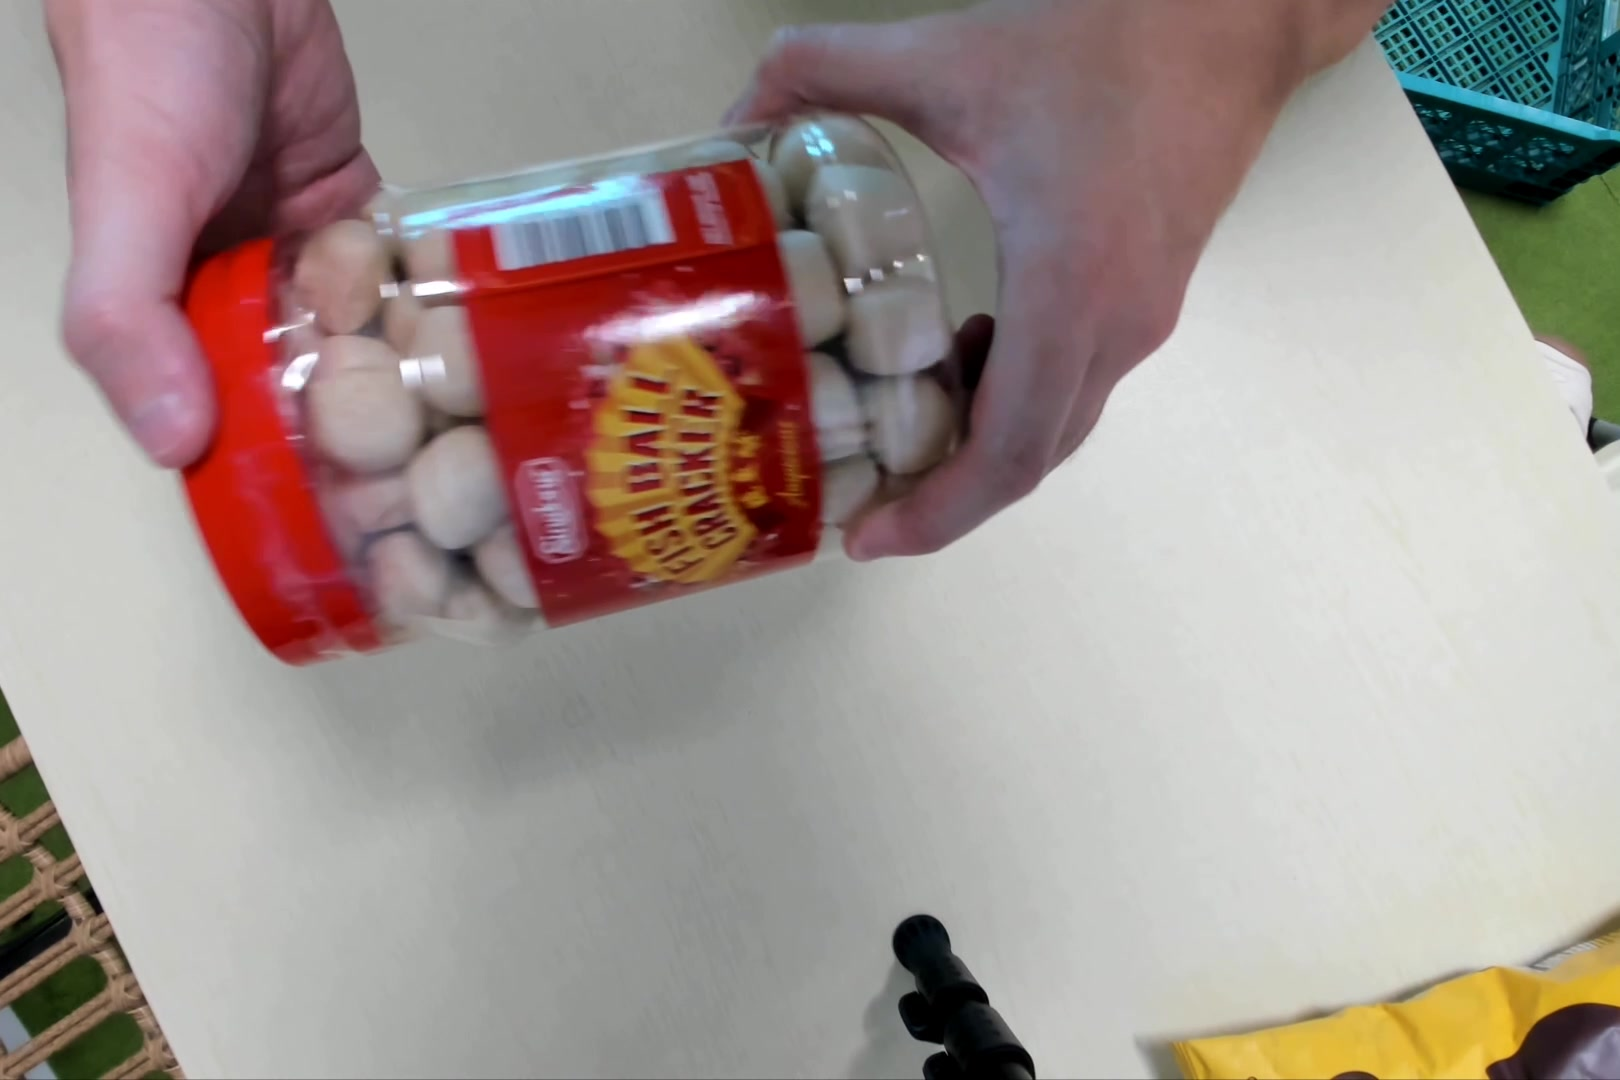PotatoChipsKeropok_100-199g_NonHalal_NonHealthy: (176, 110, 972, 671)
